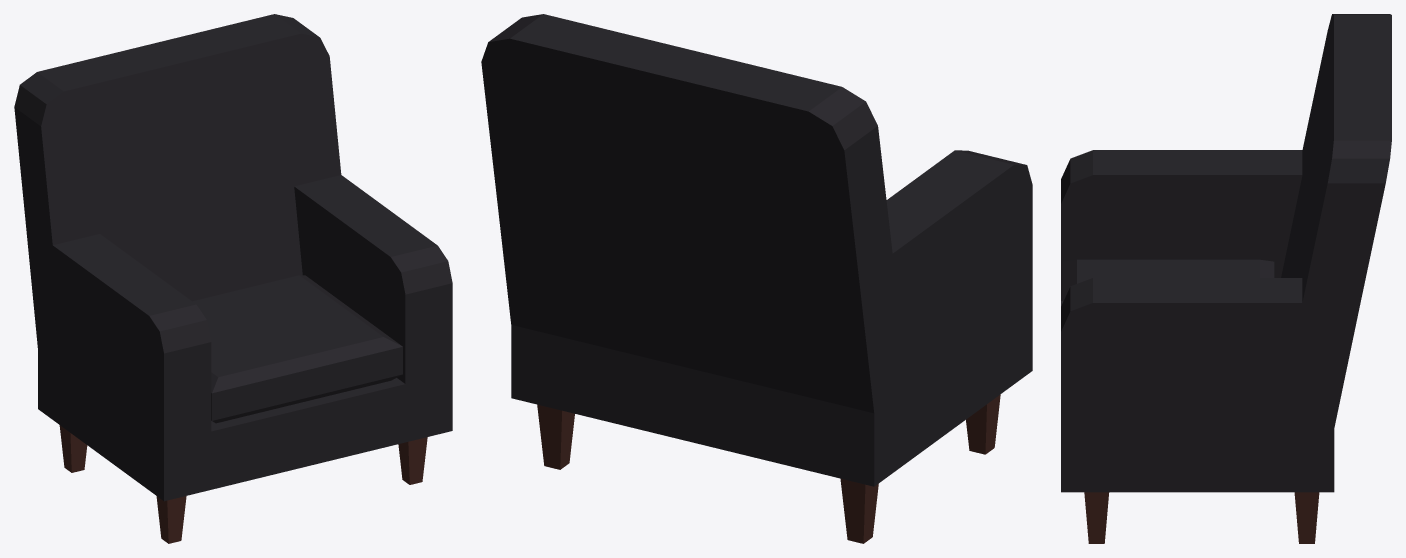
File: armchair.glb
3 views of the same model, side by side, from view 1: azimuth 30°, elevation 25°; view 2: azimuth 150°, elevation 25°; view 3: azimuth 270°, elevation 25° (orthographic). The views are drawn at different scales.
Visible parts, largest first — view 1: Armchair; view 2: Armchair; view 3: Armchair.
Boxes of the visible parts, x1=… form: Armchair: x1=14, y1=14, x2=452, y2=543; Armchair: x1=481, y1=14, x2=1032, y2=543; Armchair: x1=1061, y1=14, x2=1391, y2=543.
Size of the model in its own units: 0.5881 by 0.7162 by 0.5384.
Materials: 1 (1 with a texture image).
